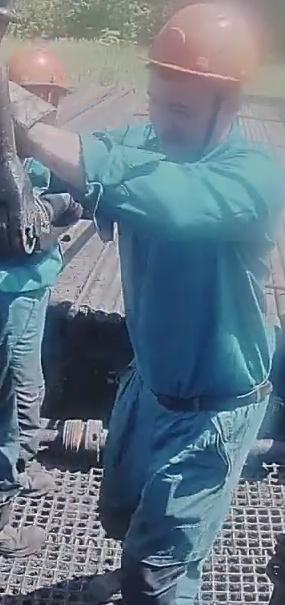gloves: (4, 76, 61, 162)
helmet: (136, 1, 260, 86), (6, 45, 78, 95)
vest: (101, 120, 285, 398)
